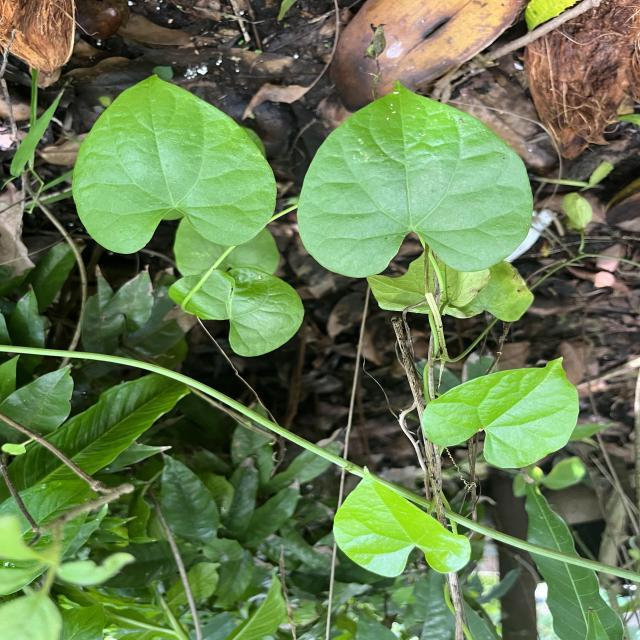Tinospora cordifolia: (294, 75, 537, 282), (68, 71, 282, 259), (418, 349, 582, 472), (331, 462, 474, 582)
